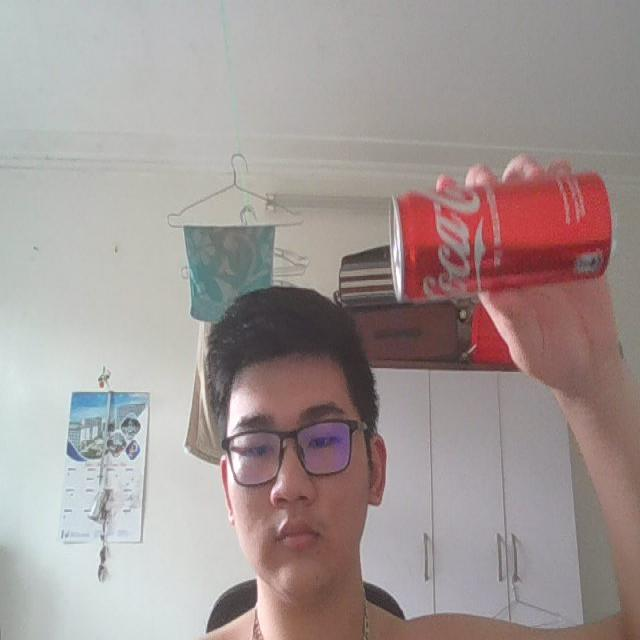Coca Cola: (392, 168, 616, 306)
